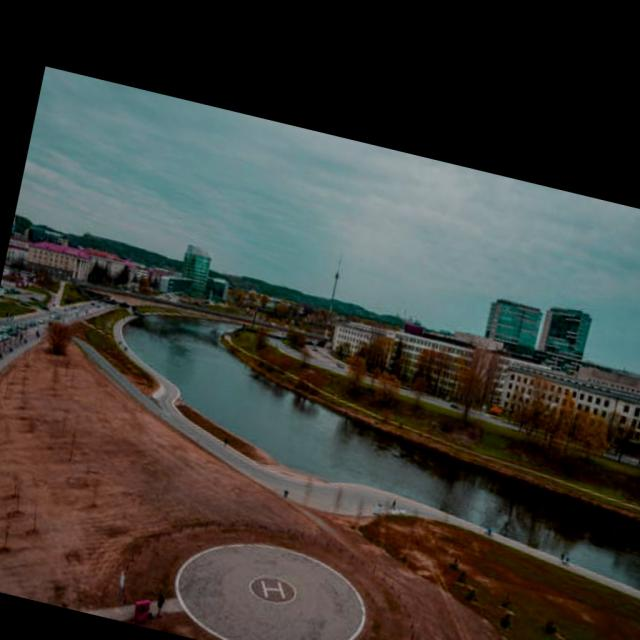helipad: (246, 572, 296, 604)
